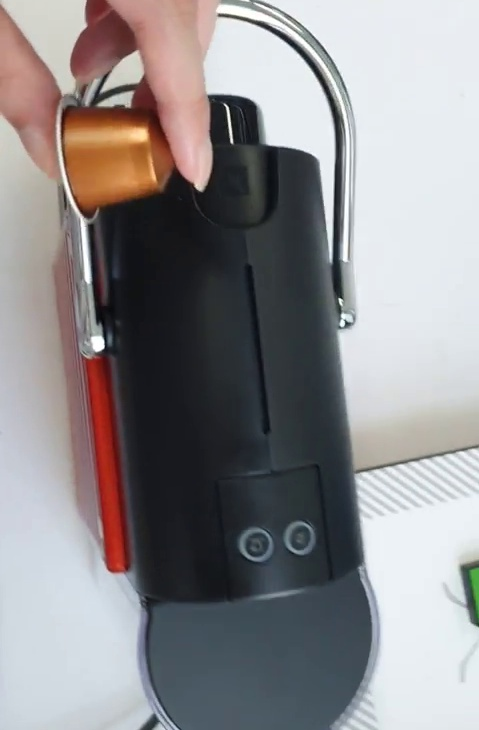capsule_3: (52, 89, 177, 220)
